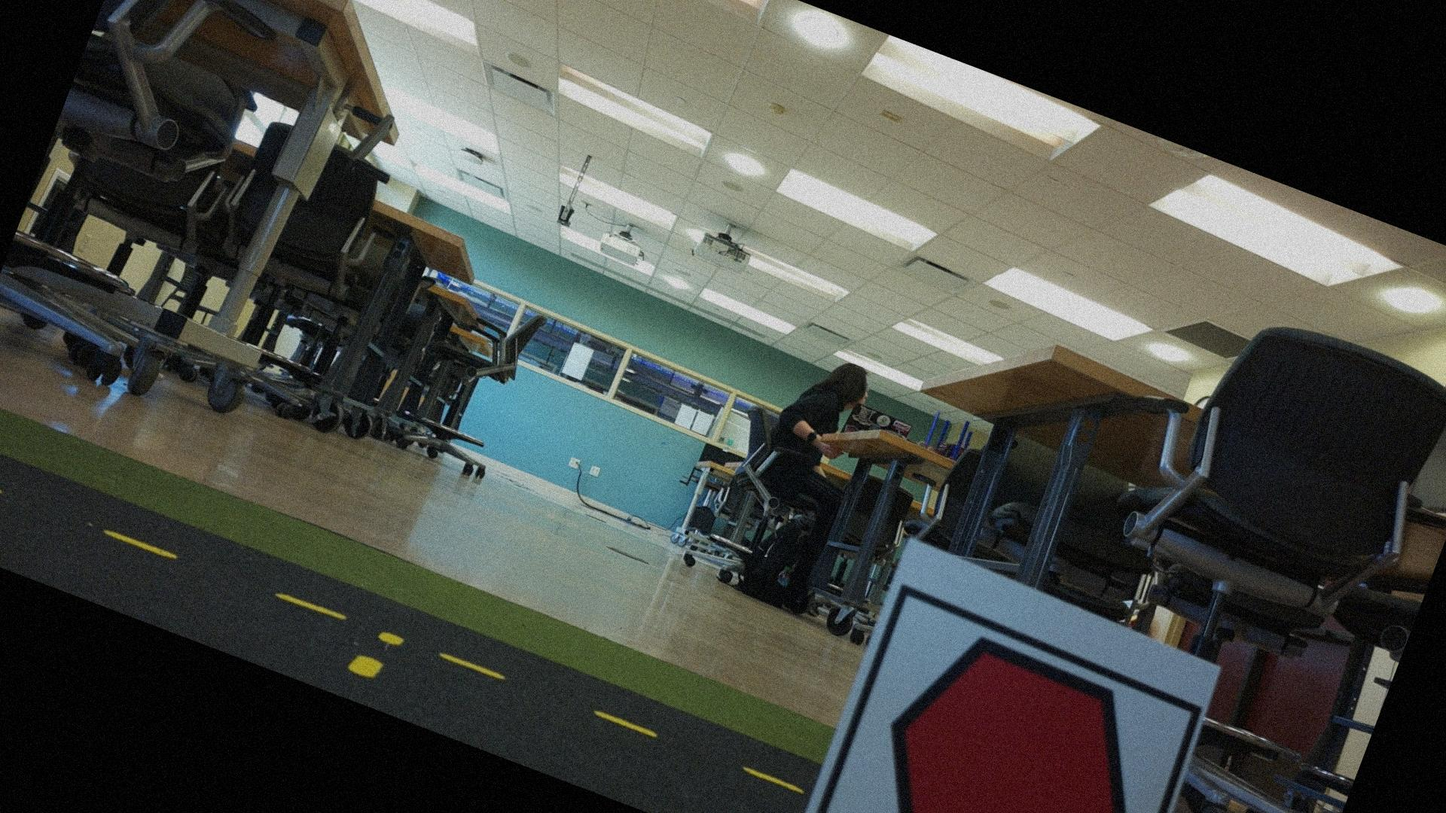stop: (831, 603, 1182, 812)
yellowline: (0, 453, 799, 798), (343, 618, 410, 691)
